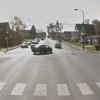Crosswalk: (6, 68, 99, 99)
